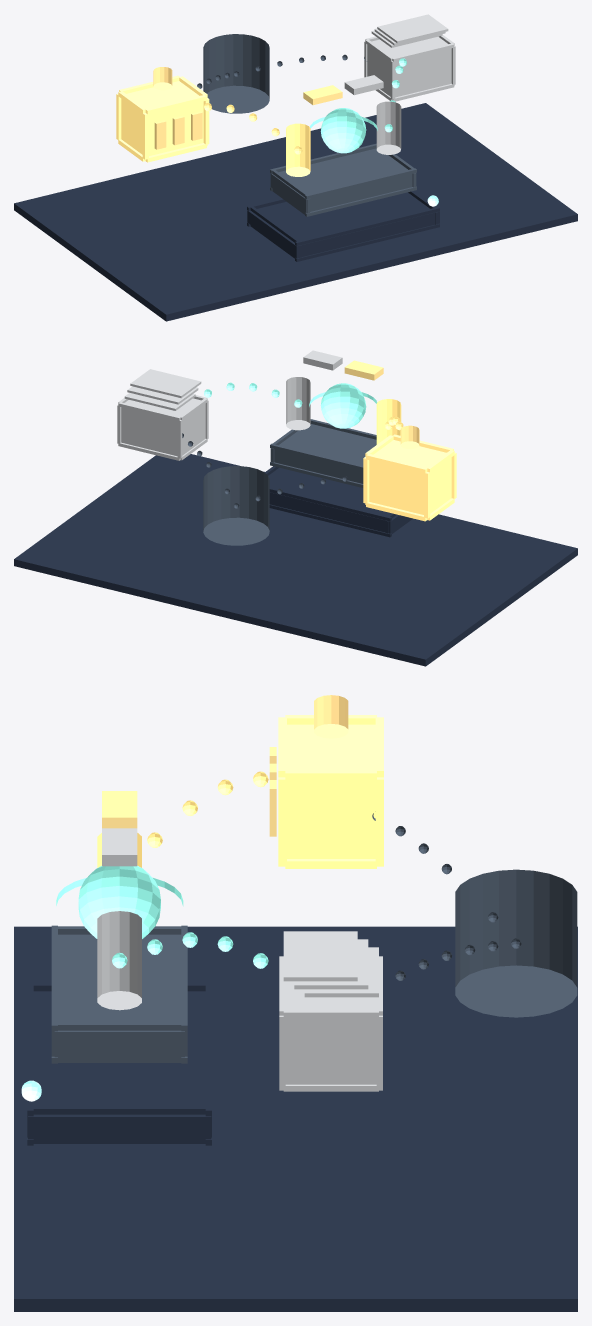
Rendered from secrets-configmaps.glb.
The picture shows the model from 3 angles, top to bottom: view 1: azimuth 30°, elevation 25°; view 2: azimuth 150°, elevation 25°; view 3: azimuth 270°, elevation 25°; orthographic projection. The views are drawn at different scales.
Parts seen in each view (by area): view 1: cfg-floor, node-kubelet, pod-shell, secret-db-creds, etcd-store, configmap-app-config, container-app, volume-configmap, volume-secret, configmap-sheet-2, env-chip-0, env-chip-1 (+1 smaller); view 2: cfg-floor, secret-db-creds, node-kubelet, etcd-store, pod-shell, configmap-app-config, container-app, volume-configmap, configmap-sheet-2, volume-secret, env-chip-0, env-chip-1 (+3 smaller); view 3: cfg-floor, node-kubelet, etcd-store, secret-db-creds, pod-shell, configmap-app-config, volume-configmap, container-app, configmap-sheet-2, secret-lock, env-chip-1, env-chip-0 (+4 smaller).
Boxes of the visible parts, x1,y1,x2,y2 form: cfg-floor: (14,103,577,321); node-kubelet: (247,191,439,261); pod-shell: (270,143,416,216); secret-db-creds: (116,75,209,162); etcd-store: (203,34,269,113); configmap-app-config: (364,35,455,101); container-app: (320,108,366,153); volume-configmap: (376,101,401,154); volume-secret: (286,123,310,176); configmap-sheet-2: (377,14,448,43); env-chip-0: (303,85,342,105); env-chip-1: (344,75,383,95); cfg-floor: (14,454,577,666); secret-db-creds: (363,434,456,521); node-kubelet: (264,466,412,537); etcd-store: (203,466,269,545); pod-shell: (270,419,376,487); configmap-app-config: (117,395,208,460); container-app: (320,383,366,428); volume-configmap: (286,377,310,430); configmap-sheet-2: (130,369,201,398); volume-secret: (376,399,401,444); env-chip-0: (344,360,383,380); env-chip-1: (303,350,342,370); cfg-floor: (14,926,577,1311); node-kubelet: (27,981,211,1145); etcd-store: (455,869,577,1017); secret-db-creds: (278,715,383,868); pod-shell: (51,925,187,1063); configmap-app-config: (279,956,382,1091); volume-configmap: (97,911,141,1010); container-app: (78,865,160,938); configmap-sheet-2: (283,931,357,981); secret-lock: (314,695,348,738); env-chip-1: (102,828,137,866); env-chip-0: (102,791,137,828).
Size of what is drawn, in the model's own units: 5 by 1.95 by 3.2.
